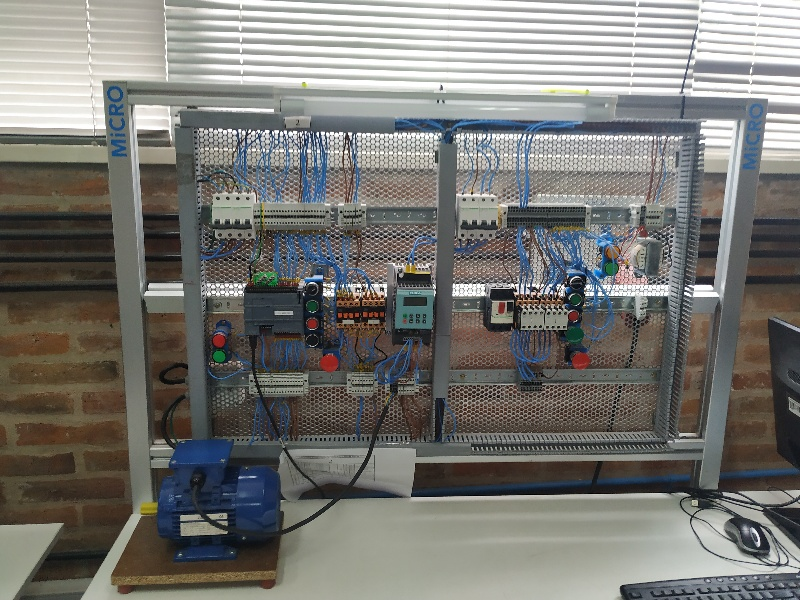Tablero 2: (190, 123, 679, 449)
